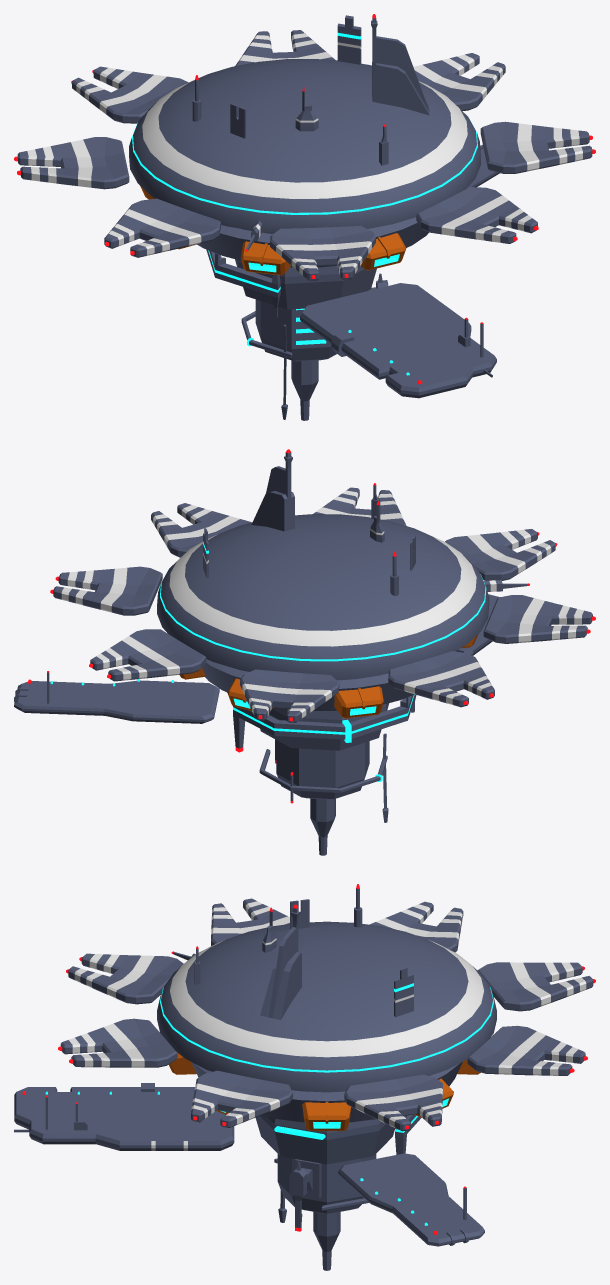
File: space station.glb
3 renders of one model, top to bottom at view 1: azimuth 30°, elevation 25°; view 2: azimuth 150°, elevation 25°; view 3: azimuth 270°, elevation 25°, orthographic. The views are drawn at different scales.
Parts seen in each view (by area): view 1: Sphere; view 2: Sphere; view 3: Sphere.
Boxes of the visible parts, <box> form: Sphere: <box>14,14,595,420</box>; Sphere: <box>14,449,595,855</box>; Sphere: <box>14,884,595,1270</box>.
Size of the model in its own units: 7.06 by 5.37 by 7.28.
